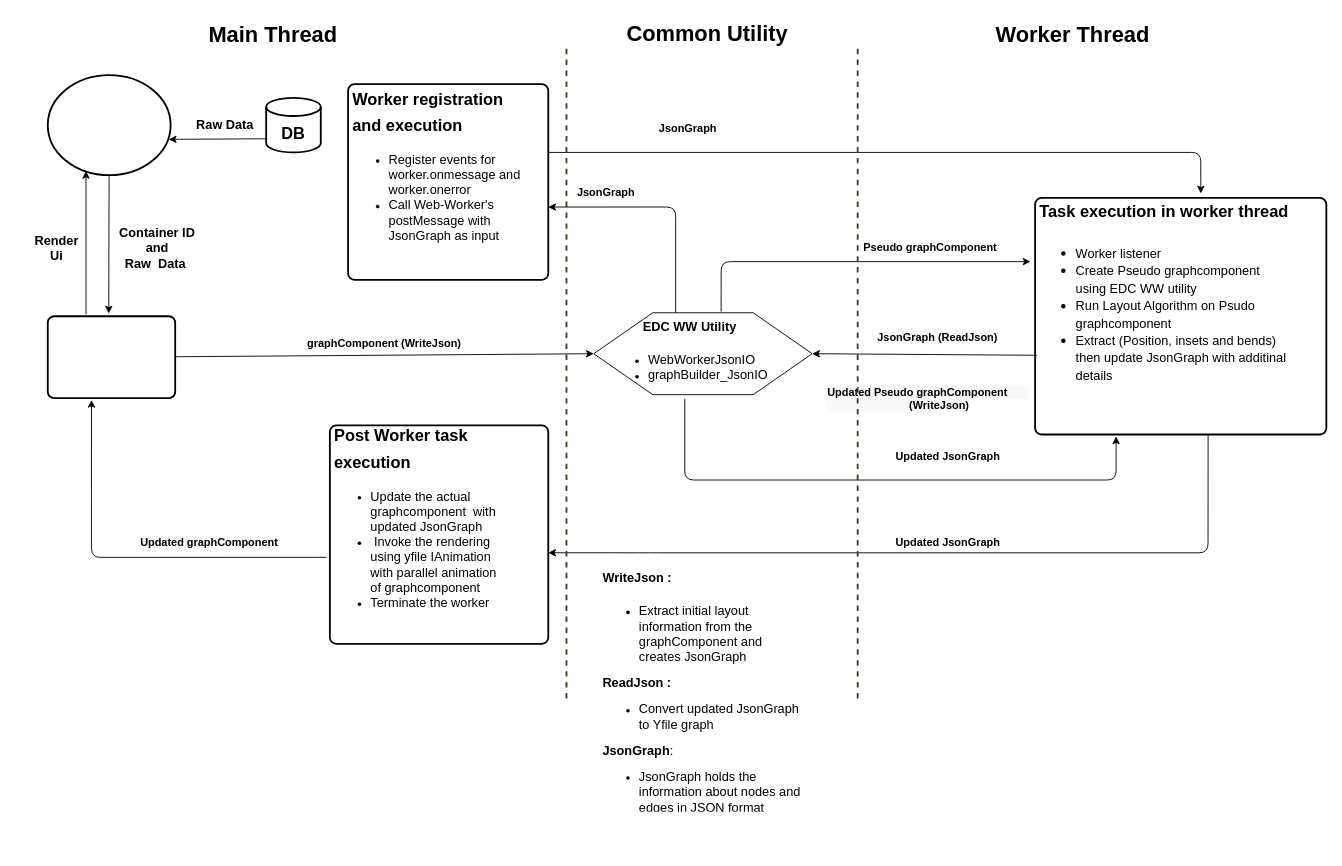
Image size: 1342x866. Some labels were removed from this diagram. The shapes that lost their labels are listed below. From the top down, each one's centre as x and y in pixels, then its label:
(x=108, y=125): EDC UI
(x=111, y=357): yfiles Initial configuration
